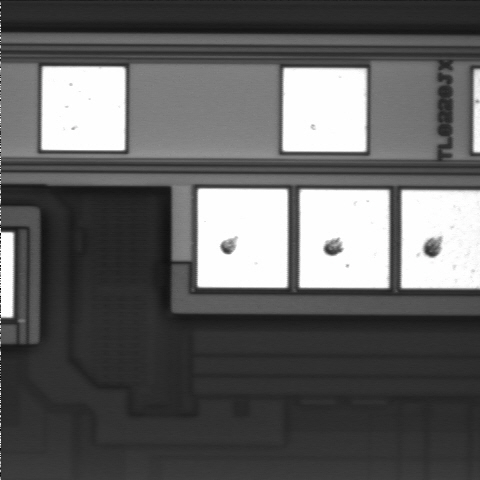pad: (198, 189, 288, 288), (300, 190, 389, 288), (283, 68, 366, 152), (42, 67, 125, 150)
